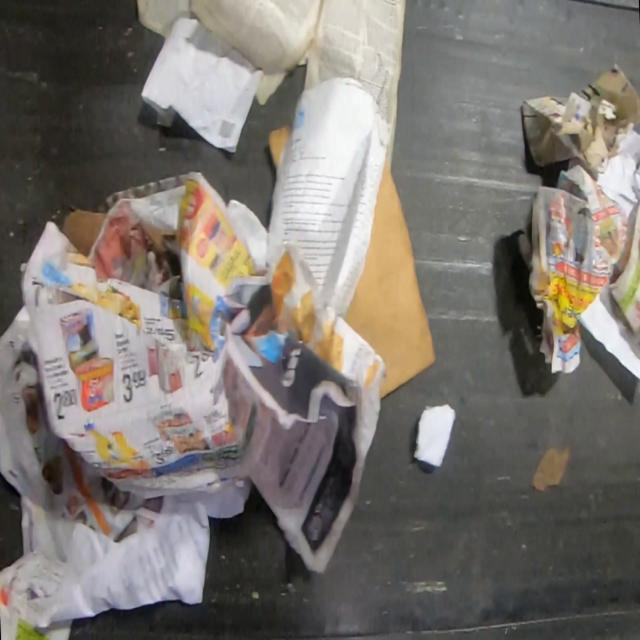cardboard: (344, 158, 437, 397), (62, 208, 106, 258), (266, 126, 290, 172)
